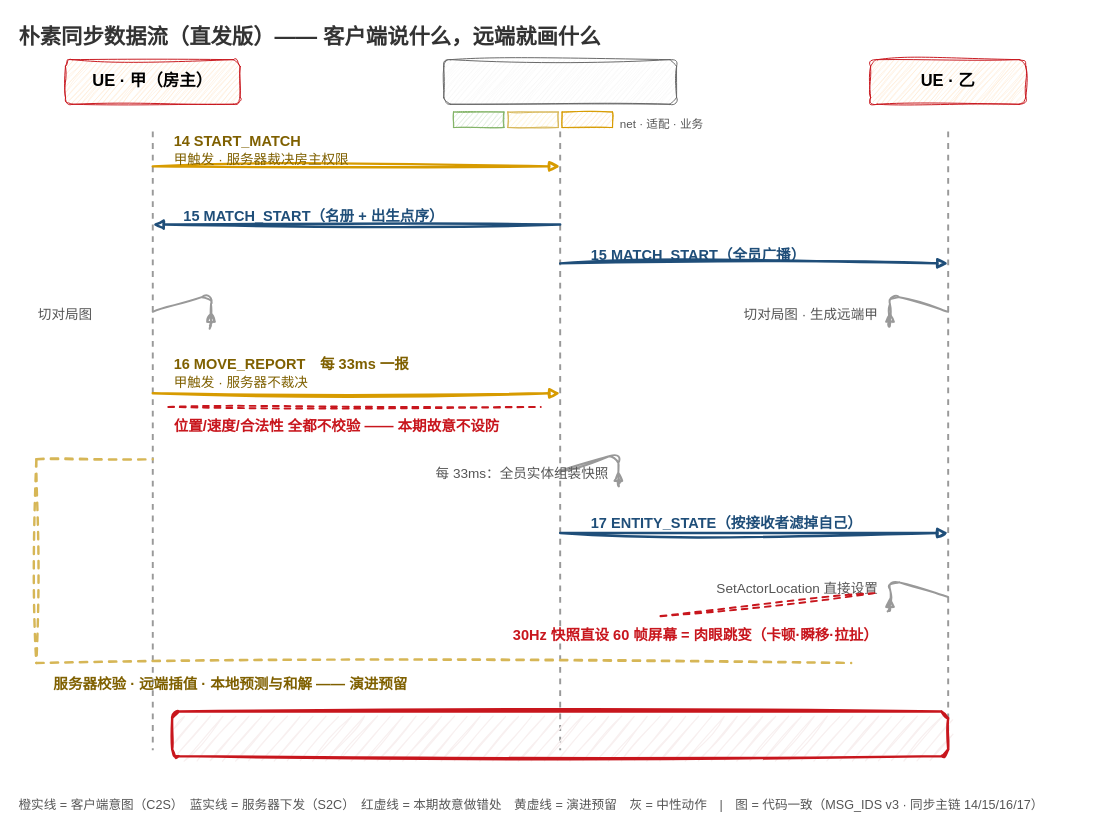
Some shapes in this 1119 by 830 pixel diagram are drawn without their labels. The box of each missing label's shape, as (x1, y1, x2, y2) in pixels:
客户端说什么就是什么 —— 第 4 期要治的病根，全埋在这条链上: (171, 710, 949, 757)
服务器: (443, 59, 677, 104)
